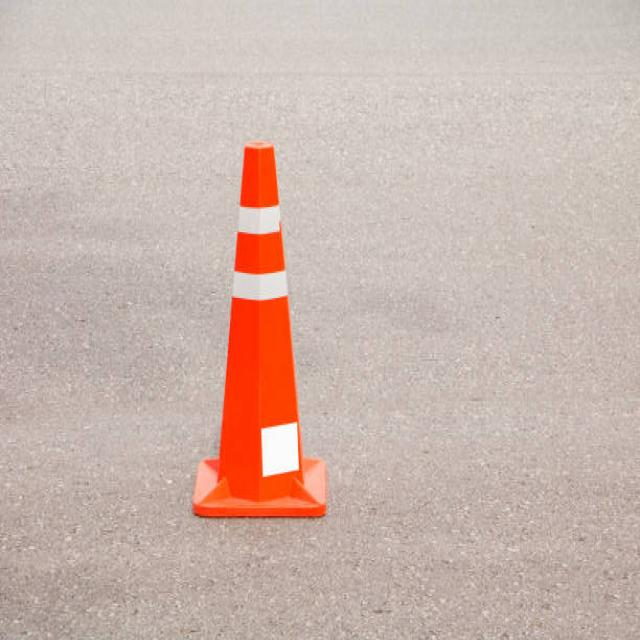Traffic Cone: (170, 103, 345, 537)
